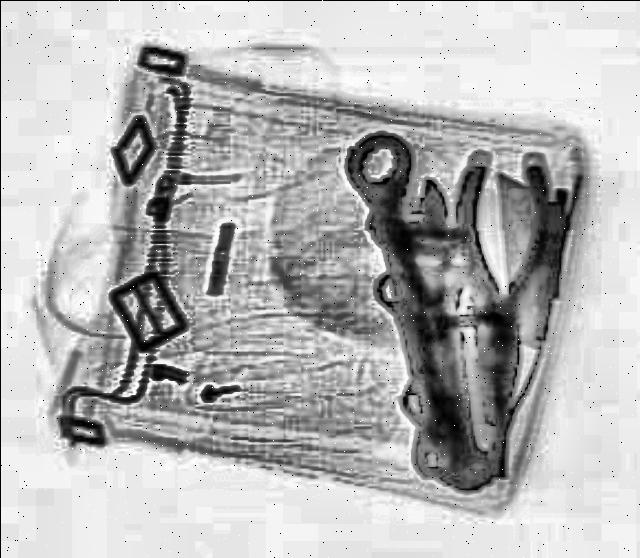Pliers: (442, 153, 548, 429)
Wrench: (334, 131, 476, 483)
